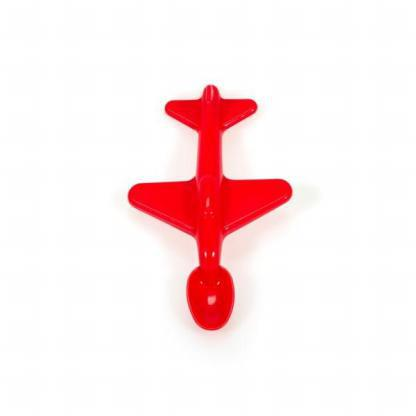CIV_Plane: (125, 81, 294, 332)
